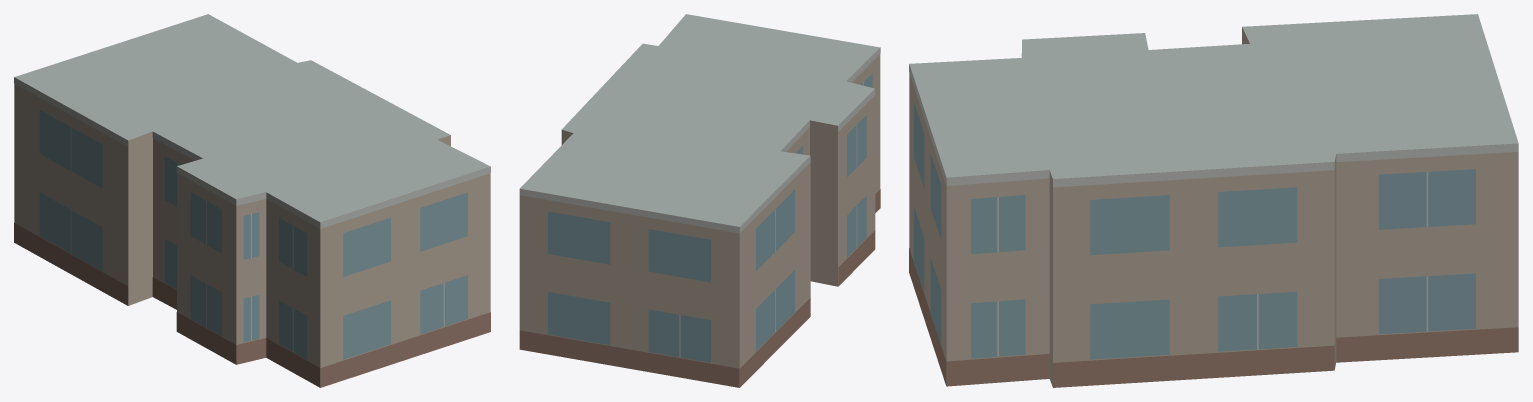
Rendered from survey-upis-32682339.glb.
The picture shows the model from 3 angles, left to right: view 1: azimuth 30°, elevation 25°; view 2: azimuth 150°, elevation 25°; view 3: azimuth 270°, elevation 25°; orthographic projection. The views are drawn at different scales.
Parts seen in each view (by area): view 1: survey-upis-32682339.tmp; view 2: survey-upis-32682339.tmp; view 3: survey-upis-32682339.tmp.
Part boxes in pixels (x1,y1,x2,y2): survey-upis-32682339.tmp: [14, 14, 490, 387]; survey-upis-32682339.tmp: [519, 14, 880, 387]; survey-upis-32682339.tmp: [909, 14, 1518, 387].
Bounding box in the file's own units: 10.36 × 6.1 × 16.15.
